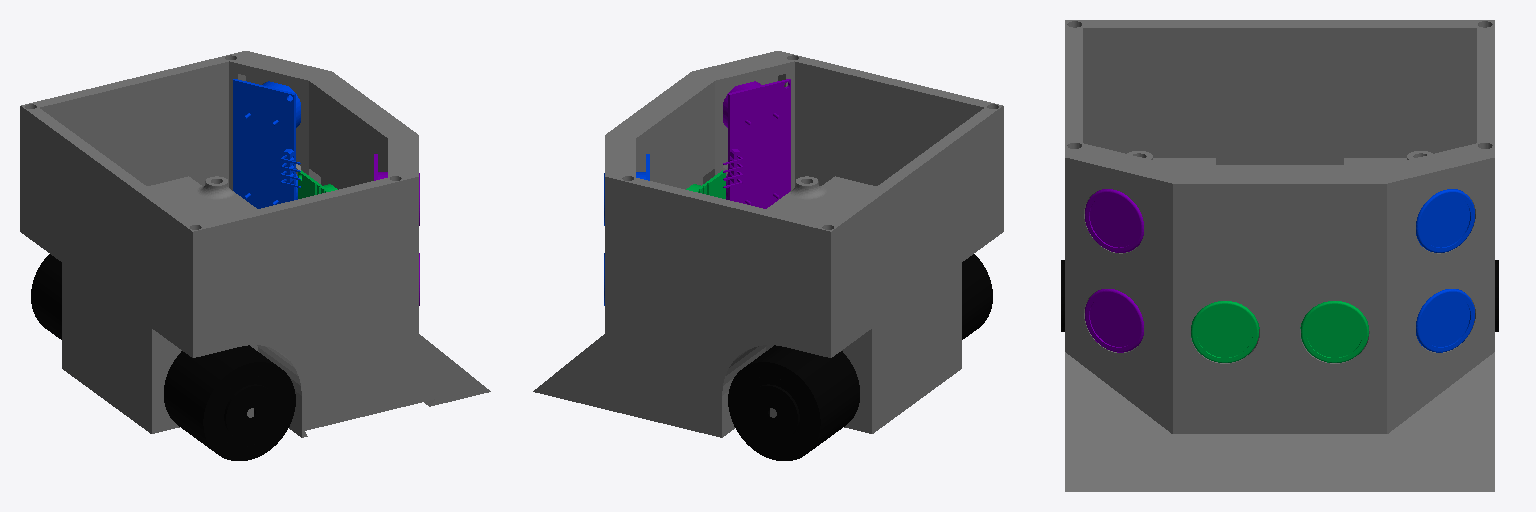
robot.urdf — uurdf_munna:
<!-- URDF del robot Munna - Plataforma robótica móvil compacta (10 x 10 cm)
     de tracción diferencial directa con tres sensores IR (frontal, izquierdo, derecho).
     Originalmente exportado desde SolidWorks mediante sw_urdf_exporter.
     Versión corregida: se eliminó joint duplicado base_to_sensor_der_joint,
     se cerraron todas las etiquetas y se uniformizaron las coordenadas. -->
<robot name="uurdf_munna">

  <!-- ================== BASE / CHASIS ================== -->
  <link name="base_link">
    <inertial>
      <origin xyz="-0.0013257 0.00022747 0.030148" rpy="0 0 0" />
      <mass value="0.39015" />
      <inertia
        ixx="0.00058166" ixy="-7.9449E-07" ixz="2.773E-05"
        iyy="0.0005342"  iyz="2.5494E-06"
        izz="0.00076133" />
    </inertial>
    <visual>
      <origin xyz="0 0 0" rpy="0 0 0" />
      <geometry>
        <mesh filename="package://modelo_robot/meshes/base_link.STL" />
      </geometry>
      <material name="chasis_petg">
        <color rgba="0.49804 0.49804 0.49804 1" />
      </material>
    </visual>
    <collision>
      <origin xyz="0 0 0" rpy="0 0 0" />
      <geometry>
        <mesh filename="package://modelo_robot/meshes/base_link.STL" />
      </geometry>
    </collision>
  </link>

  <!-- ================== RUEDA IZQUIERDA ================== -->
  <link name="rueda_izq">
    <inertial>
      <origin xyz="0 0 -0.011859" rpy="0 0 0" />
      <mass value="0.012909" />
      <inertia
        ixx="1.4986E-06" ixy="0" ixz="0"
        iyy="1.4986E-06" iyz="0"
        izz="1.9254E-06" />
    </inertial>
    <visual>
      <origin xyz="0 0 0" rpy="0 0 0" />
      <geometry>
        <mesh filename="package://modelo_robot/meshes/rueda_izq.STL" />
      </geometry>
      <material name="goma_negra">
        <color rgba="0.05 0.05 0.05 1" />
      </material>
    </visual>
    <collision>
      <origin xyz="0 0 0" rpy="0 0 0" />
      <geometry>
        <mesh filename="package://modelo_robot/meshes/rueda_izq.STL" />
      </geometry>
    </collision>
  </link>

  <joint name="base_to_rueda_izq_joint" type="continuous">
    <origin xyz="-0.031 0.051 0.0125" rpy="-1.5708 0 0" />
    <parent link="base_link" />
    <child  link="rueda_izq" />
    <axis xyz="0 0 -1" />
    <limit effort="0.3" velocity="15" />
  </joint>

  <!-- ================== RUEDA DERECHA ================== -->
  <link name="rueda_der">
    <inertial>
      <origin xyz="0 0 -0.011859" rpy="0 0 0" />
      <mass value="0.012909" />
      <inertia
        ixx="1.4986E-06" ixy="0" ixz="0"
        iyy="1.4986E-06" iyz="0"
        izz="1.9254E-06" />
    </inertial>
    <visual>
      <origin xyz="0 0 0" rpy="0 0 0" />
      <geometry>
        <mesh filename="package://modelo_robot/meshes/rueda_der.STL" />
      </geometry>
      <material name="goma_negra">
        <color rgba="0.05 0.05 0.05 1" />
      </material>
    </visual>
    <collision>
      <origin xyz="0 0 0" rpy="0 0 0" />
      <geometry>
        <mesh filename="package://modelo_robot/meshes/rueda_der.STL" />
      </geometry>
    </collision>
  </link>

  <joint name="base_to_rueda_der_joint" type="continuous">
    <origin xyz="-0.031 -0.051 0.0125" rpy="1.5708 0 0" />
    <parent link="base_link" />
    <child  link="rueda_der" />
    <axis xyz="0 0 -1" />
    <limit effort="0.3" velocity="15" />
  </joint>

  <!-- ================== SENSOR IR FRONTAL ================== -->
  <link name="sensor_frontal">
    <inertial>
      <origin xyz="0.0039767 1.4234E-07 -6.996E-05" rpy="0 0 0" />
      <mass value="0.0035955" />
      <inertia
        ixx="7.1219E-07" ixy="4.4581E-12" ixz="2.6512E-09"
        iyy="1.5114E-07" iyz="1.2982E-09"
        izz="6.6729E-07" />
    </inertial>
    <visual>
      <origin xyz="0 0 0" rpy="0 0 0" />
      <geometry>
        <mesh filename="package://modelo_robot/meshes/sensor_frontal.STL" />
      </geometry>
      <material name="sensor_pcb">
        <color rgba="0 0.7 0.3 1" />
      </material>
    </visual>
    <collision>
      <origin xyz="0 0 0" rpy="0 0 0" />
      <geometry>
        <mesh filename="package://modelo_robot/meshes/sensor_frontal.STL" />
      </geometry>
    </collision>
  </link>

  <joint name="base_to_sensor_frontal_joint" type="fixed">
    <origin xyz="0.0272 -2.5E-05 0.036275" rpy="0 0 0" />
    <parent link="base_link" />
    <child  link="sensor_frontal" />
  </joint>

  <!-- ================== SENSOR IR IZQUIERDO ================== -->
  <link name="sensor_izq">
    <inertial>
      <origin xyz="0.0039767 6.996E-05 1.4234E-07" rpy="0 0 0" />
      <mass value="0.0035955" />
      <inertia
        ixx="7.1219E-07" ixy="-2.6512E-09" ixz="4.4581E-12"
        iyy="6.6729E-07" iyz="-1.2982E-09"
        izz="1.5114E-07" />
    </inertial>
    <visual>
      <origin xyz="0 0 0" rpy="0 0 0" />
      <geometry>
        <mesh filename="package://modelo_robot/meshes/sensor_izq.STL" />
      </geometry>
      <material name="sensor_pcb_izq">
        <color rgba="0 0.3 0.9 1" />
      </material>
    </visual>
    <collision>
      <origin xyz="0 0 0" rpy="0 0 0" />
      <geometry>
        <mesh filename="package://modelo_robot/meshes/sensor_izq.STL" />
      </geometry>
    </collision>
  </link>

  <joint name="base_to_sensor_izq_joint" type="fixed">
    <origin xyz="0.021051 0.032221 0.048325" rpy="0 0 0.5236" />
    <parent link="base_link" />
    <child  link="sensor_izq" />
  </joint>

  <!-- ================== SENSOR IR DERECHO ================== -->
  <link name="sensor_der">
    <inertial>
      <origin xyz="0.0039767 -6.996E-05 -1.4234E-07" rpy="0 0 0" />
      <mass value="0.0035955" />
      <inertia
        ixx="7.1219E-07" ixy="2.6512E-09" ixz="-4.4581E-12"
        iyy="6.6729E-07" iyz="-1.2982E-09"
        izz="1.5114E-07" />
    </inertial>
    <visual>
      <origin xyz="0 0 0" rpy="0 0 0" />
      <geometry>
        <mesh filename="package://modelo_robot/meshes/sensor_der.STL" />
      </geometry>
      <material name="sensor_pcb_der">
        <color rgba="0.5 0 0.7 1" />
      </material>
    </visual>
    <collision>
      <origin xyz="0 0 0" rpy="0 0 0" />
      <geometry>
        <mesh filename="package://modelo_robot/meshes/sensor_der.STL" />
      </geometry>
    </collision>
  </link>

  <joint name="base_to_sensor_der_joint" type="fixed">
    <origin xyz="0.021051 -0.032221 0.048325" rpy="0 0 -0.5236" />
    <parent link="base_link" />
    <child  link="sensor_der" />
  </joint>

  <!-- ================================================================
       FRICCIÓN DE LAS RUEDAS Y EL CHASIS PARA GAZEBO
       Ruedas: alta fricción para no patinar
       Chasis: muy baja, no debería tocar el suelo pero por seguridad
       ================================================================ -->

  <gazebo reference="rueda_izq">
    <mu1>1.0</mu1>
    <mu2>1.0</mu2>
    <kp>1000000.0</kp>
    <kd>100.0</kd>
    <material>Gazebo/Black</material>
  </gazebo>

  <gazebo reference="rueda_der">
    <mu1>1.0</mu1>
    <mu2>1.0</mu2>
    <kp>1000000.0</kp>
    <kd>100.0</kd>
    <material>Gazebo/Black</material>
  </gazebo>

  <gazebo reference="base_link">
    <mu1>0.1</mu1>
    <mu2>0.1</mu2>
    <material>Gazebo/Grey</material>
  </gazebo>

  <!-- ================================================================
       PLUGIN DIFF DRIVE
       Suscribe /cmd_vel y mueve rueda_izq y rueda_der
       Publica /odom y la TF odom -> base_link
       wheel_separation = 0.102 m (2 * 0.051)
       wheel_diameter   = 0.030 m (radio 1.5 cm)
       ================================================================ -->

  <gazebo>
    <plugin name="diff_drive" filename="libgazebo_ros_diff_drive.so">
      <ros>
        <namespace>/</namespace>
        <remapping>cmd_vel:=cmd_vel</remapping>
        <remapping>odom:=odom</remapping>
      </ros>

      <update_rate>30</update_rate>

      <!-- Joints de las ruedas -->
      <left_joint>base_to_rueda_izq_joint</left_joint>
      <right_joint>base_to_rueda_der_joint</right_joint>

      <!-- Geometría -->
      <wheel_separation>0.102</wheel_separation>
      <wheel_diameter>0.030</wheel_diameter>

      <!-- Límites -->
      <max_wheel_torque>1.0</max_wheel_torque>
      <max_wheel_acceleration>5.0</max_wheel_acceleration>

      <!-- Salidas -->
      <publish_odom>true</publish_odom>
      <publish_odom_tf>true</publish_odom_tf>
      <publish_wheel_tf>true</publish_wheel_tf>

      <odometry_frame>odom</odometry_frame>
      <robot_base_frame>base_link</robot_base_frame>
    </plugin>
  </gazebo>

  <!-- ================================================================
       SENSORES ULTRASÓNICOS (3 sensores ray tipo HC-SR04)
       Cada uno publica sensor_msgs/Range. Rango 5 cm – 4 m, FOV 15°.
       El color del rayo coincide con el material visual del sensor.
       ================================================================ -->

  <!-- Sensor FRONTAL (rayo verde) -->
  <gazebo reference="sensor_frontal">
    <material>Gazebo/Green</material>
    <sensor type="ray" name="sensor_frontal_ray">
      <pose>0 0 0 0 0 0</pose>
      <visualize>true</visualize>
      <update_rate>10</update_rate>
      <ray>
        <scan>
          <horizontal>
            <samples>3</samples>
            <resolution>1</resolution>
            <min_angle>-0.3</min_angle>
            <max_angle>0.3</max_angle>
          </horizontal>
          
        </scan>
        <range>
          <min>0.05</min>
          <max>1.0</max>
          <resolution>0.01</resolution>
        </range>
      </ray>
      <plugin name="sensor_frontal_plugin" filename="libgazebo_ros_ray_sensor.so">
        <ros>
          <remapping>~/out:=/sensors/front</remapping>
        </ros>
        <output_type>sensor_msgs/LaserScan</output_type>
        <frame_name>sensor_frontal</frame_name>
      </plugin>
    </sensor>
  </gazebo>

  <!-- Sensor IZQUIERDO (rayo azul) -->
  <gazebo reference="sensor_izq">
    <material>Gazebo/Blue</material>
    <sensor type="ray" name="sensor_izq_ray">
      <pose>0 0 0 0 0 0</pose>
      <visualize>true</visualize>
      <update_rate>10</update_rate>
      <ray>
        <scan>
          <horizontal>
            <samples>3</samples>
            <resolution>1</resolution>
            <min_angle>-0.3</min_angle>
            <max_angle>0.3</max_angle>
          </horizontal>
    
        </scan>
        <range>
          <min>0.05</min>
          <max>1.0</max>
          <resolution>0.01</resolution>
        </range>
      </ray>
      <plugin name="sensor_izq_plugin" filename="libgazebo_ros_ray_sensor.so">
        <ros>
          <remapping>~/out:=/sensors/izq</remapping>
        </ros>
        <output_type>sensor_msgs/LaserScan</output_type>
        <frame_name>sensor_izq</frame_name>
      </plugin>
    </sensor>
  </gazebo>

  <!-- Sensor DERECHO (rayo morado) -->
  <gazebo reference="sensor_der">
    <material>Gazebo/Purple</material>
    <sensor type="ray" name="sensor_der_ray">
      <pose>0 0 0 0 0 0</pose>
      <visualize>true</visualize>
      <update_rate>10</update_rate>
      <ray>
        <scan>
          <horizontal>
            <samples>3</samples>
            <resolution>1</resolution>
            <min_angle>-0.3</min_angle>
            <max_angle>0.3</max_angle>
          </horizontal>
    
        </scan>
        <range>
          <min>0.05</min>
          <max>1.0</max>
          <resolution>0.01</resolution>
        </range>
      </ray>
      <plugin name="sensor_der_plugin" filename="libgazebo_ros_ray_sensor.so">
        <ros>
          <remapping>~/out:=/sensors/der</remapping>
        </ros>
        <output_type>sensor_msgs/LaserScan</output_type>
        <frame_name>sensor_der</frame_name>
      </plugin>
    </sensor>
  </gazebo>

</robot>

--- Facts derived from the render (not from the file) ---
The picture shows the robot from 3 angles, left to right: view 1: azimuth 30°, elevation 25°; view 2: azimuth 150°, elevation 25°; view 3: azimuth 270°, elevation 25°; orthographic projection.
Robot: uurdf_munna — 6 links, 5 joints (2 continuous, 3 fixed); root link base_link; default pose: every joint at zero.
Links seen in each view (by area): view 1: base_link, rueda_der, sensor_izq, rueda_izq, sensor_frontal; view 2: base_link, rueda_izq, sensor_der, rueda_der, sensor_frontal; view 3: base_link, sensor_frontal, sensor_izq, sensor_der.
Boxes of the visible links, <box> form: base_link: <box>20,51,490,437</box>; rueda_der: <box>164,345,295,460</box>; sensor_izq: <box>233,79,300,208</box>; rueda_izq: <box>31,254,61,339</box>; sensor_frontal: <box>298,170,337,198</box>; base_link: <box>533,51,1003,437</box>; rueda_izq: <box>728,345,859,460</box>; sensor_der: <box>723,79,790,208</box>; rueda_der: <box>962,254,992,339</box>; sensor_frontal: <box>686,170,725,198</box>; base_link: <box>1065,20,1494,491</box>; sensor_frontal: <box>1191,301,1368,362</box>; sensor_izq: <box>1416,189,1474,352</box>; sensor_der: <box>1085,189,1143,352</box>.
Bounding box of the posed robot: 0.1 × 0.102 × 0.0775 m (x, y, z).
Meshes: 6 distinct files referenced, 6 mesh visuals loaded (6 binary STL).
